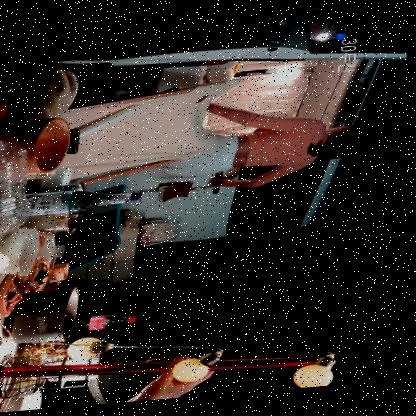streamer: (57, 83, 388, 205)
